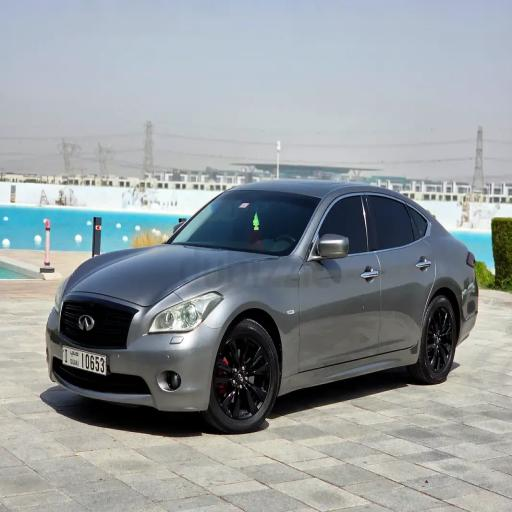license-plates: (62, 345, 106, 376)
